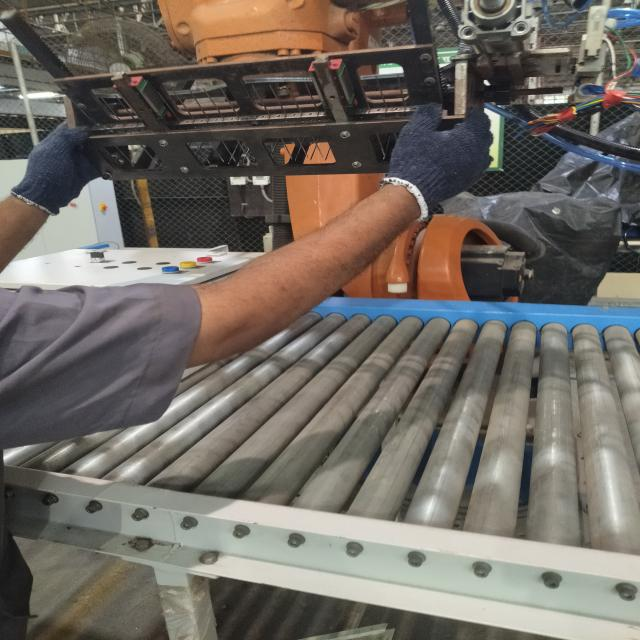Gloves-Detection: (383, 100, 498, 217), (12, 108, 100, 208)
